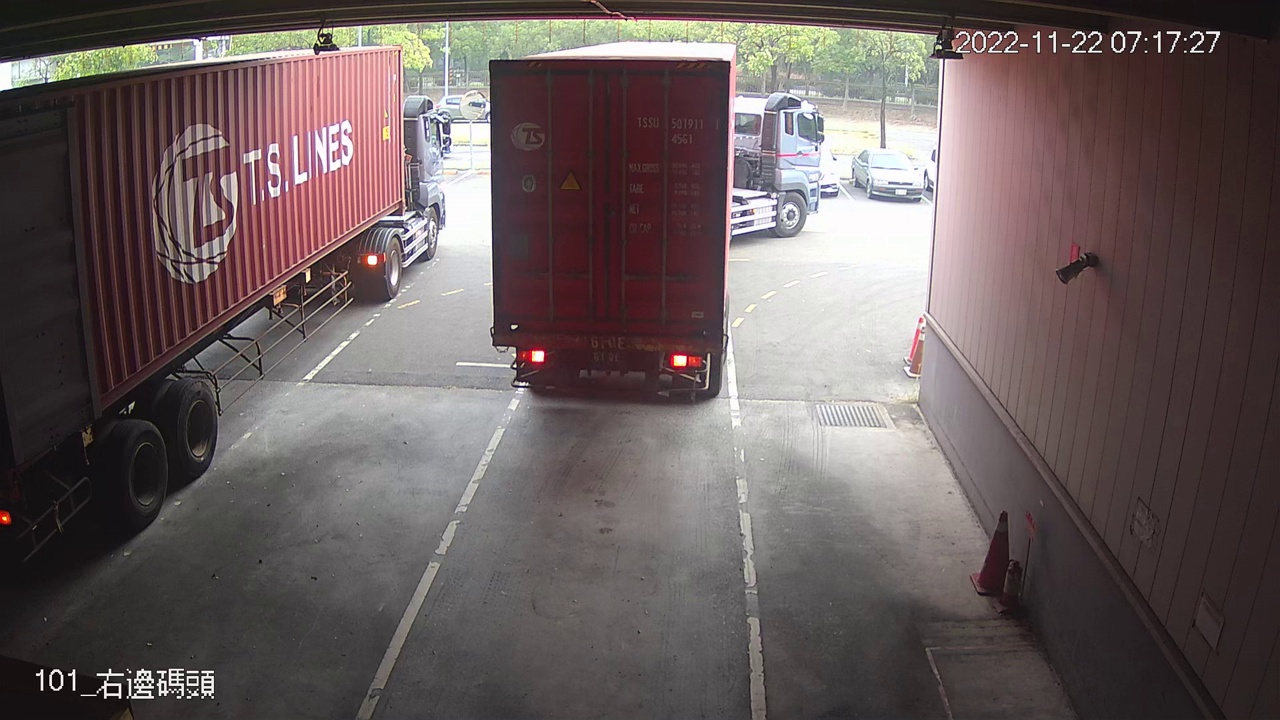container: (631, 111, 725, 150)
